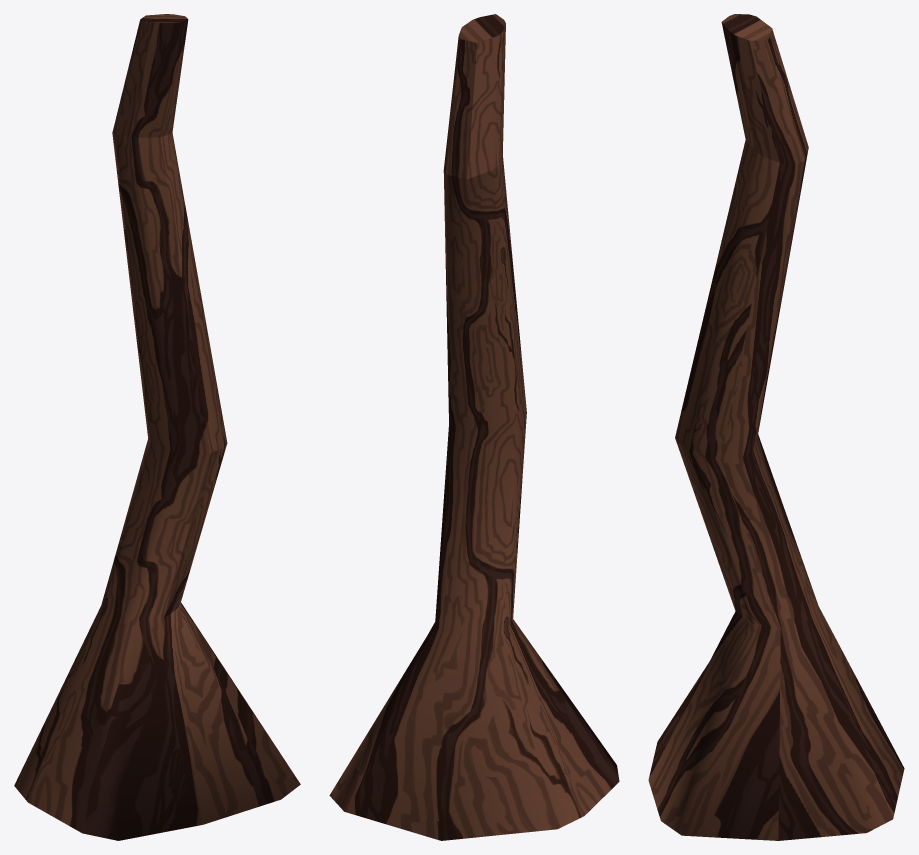
File: Low tree 7.fbx
3 renders of one model, left to right at view 1: azimuth 30°, elevation 25°; view 2: azimuth 150°, elevation 25°; view 3: azimuth 270°, elevation 25°, orthographic. The views are drawn at different scales.
Parts seen in each view (by area): view 1: Pines_7; view 2: Pines_7; view 3: Pines_7.
Boxes of the visible parts, x1,y1,x2,y2 form: Pines_7: [14, 14, 300, 840]; Pines_7: [329, 14, 619, 840]; Pines_7: [648, 14, 904, 840].
Size of the model in its own units: 5.23 by 16.49 by 5.01.
